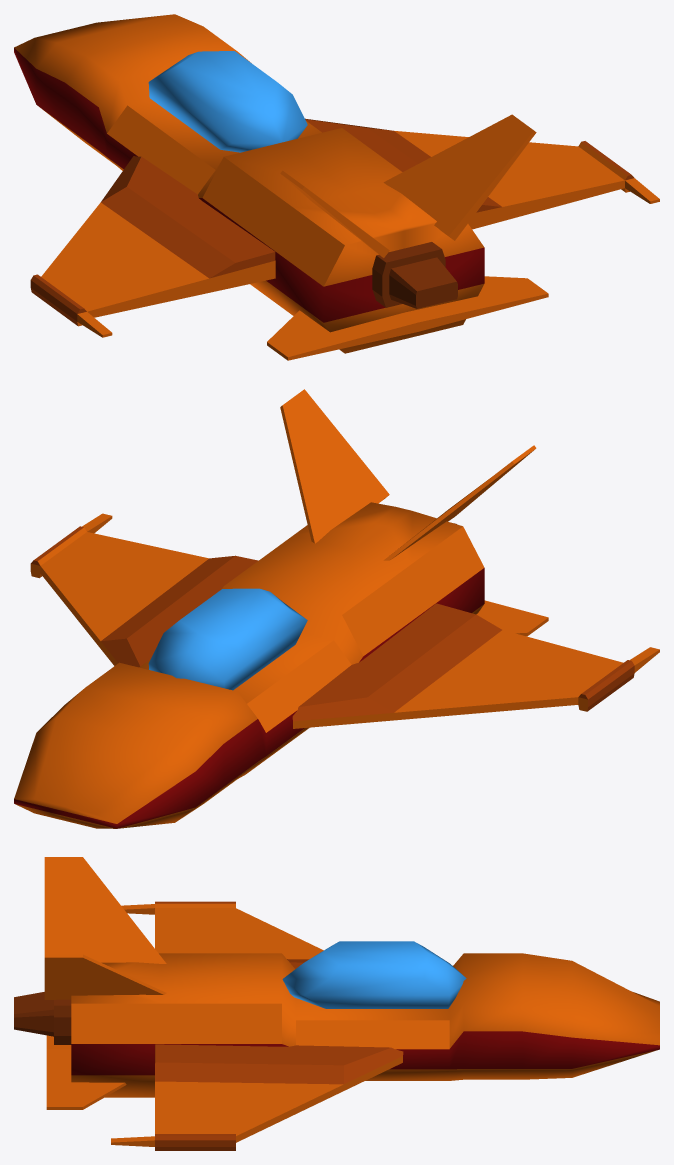
File: jet_charger.glb
The picture shows the model from 3 angles, top to bottom: view 1: azimuth 30°, elevation 25°; view 2: azimuth 150°, elevation 25°; view 3: azimuth 270°, elevation 25°; orthographic projection. The views are drawn at different scales.
Visible parts, largest first — view 1: Cube; view 2: Cube; view 3: Cube.
Part boxes in pixels (<box>): Cube: <box>14,14,659,360</box>; Cube: <box>14,389,659,828</box>; Cube: <box>14,857,659,1150</box>.
Size of the model in its own units: 3.8 by 1.25 by 4.39.
Materials: 1 (1 with a texture image).
